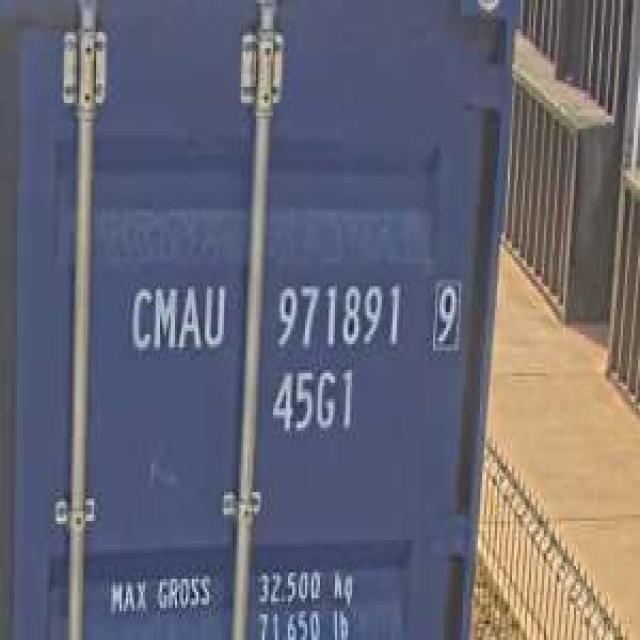dv: (427, 270, 465, 354)
owner: (124, 273, 228, 357)
serial: (271, 270, 405, 354)
size: (267, 360, 356, 438)
